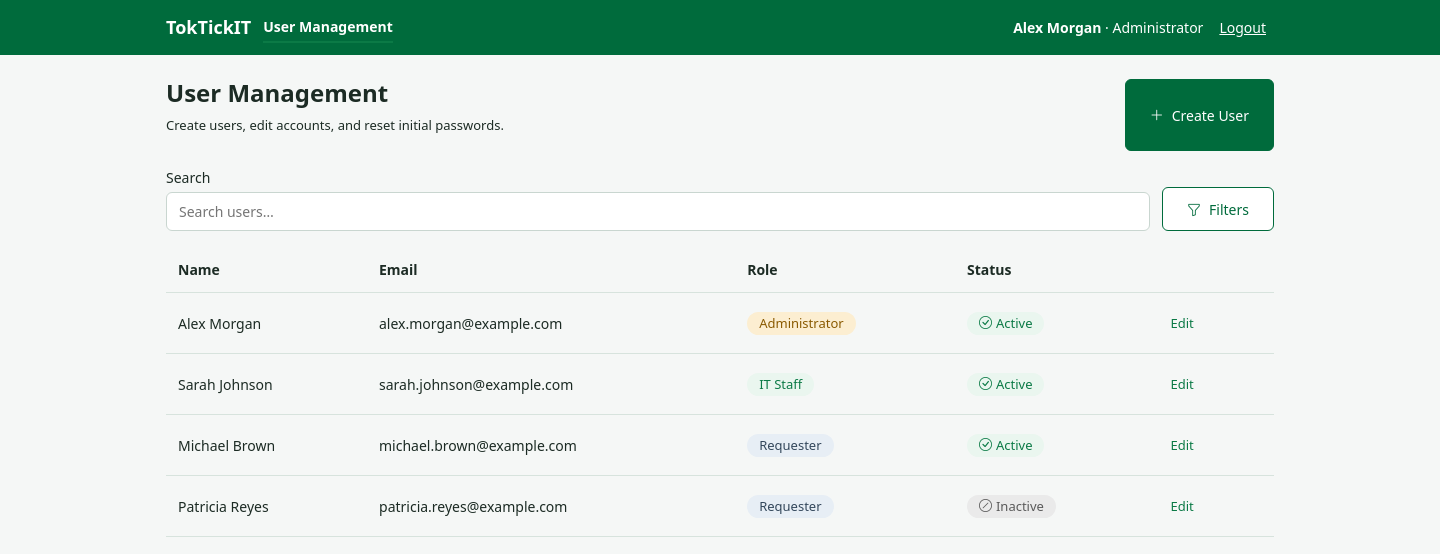
search and role filter (AC-28, BR-38) › searches by name or email as the Administrator types
In the field labelled "Search": (658, 212) [166,192,1150,231], type "sarah"
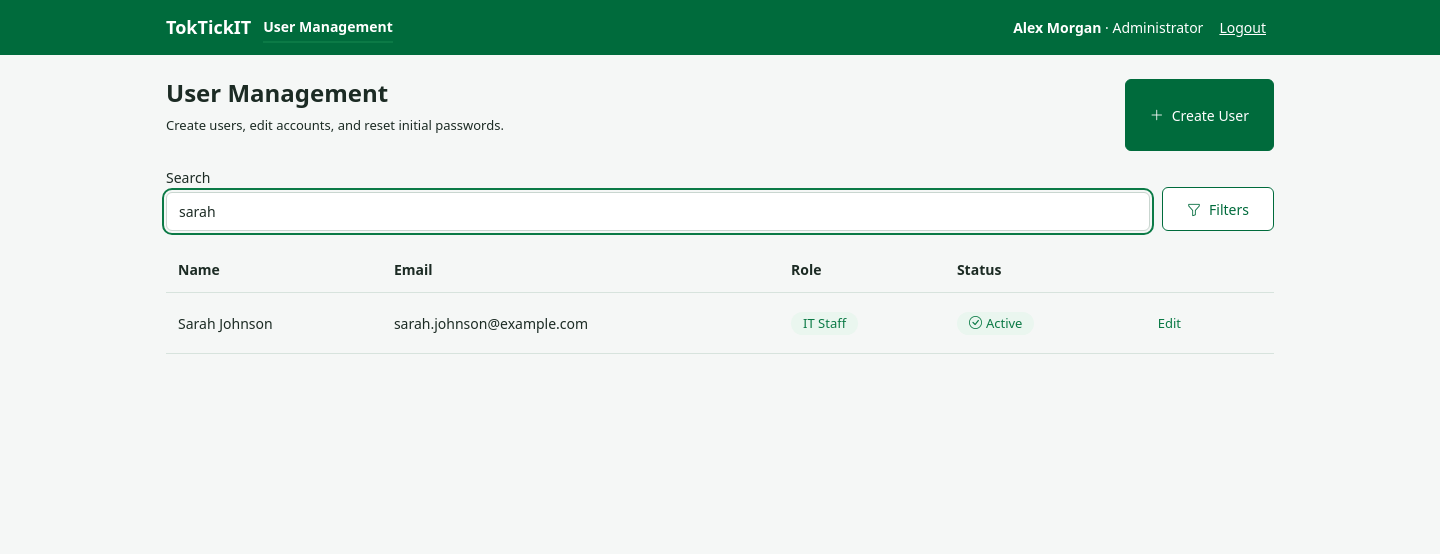
Expected: the text "Sarah Johnson" is shown, [166,293,382,354]
Expected: the text "Michael Brown" is gone
